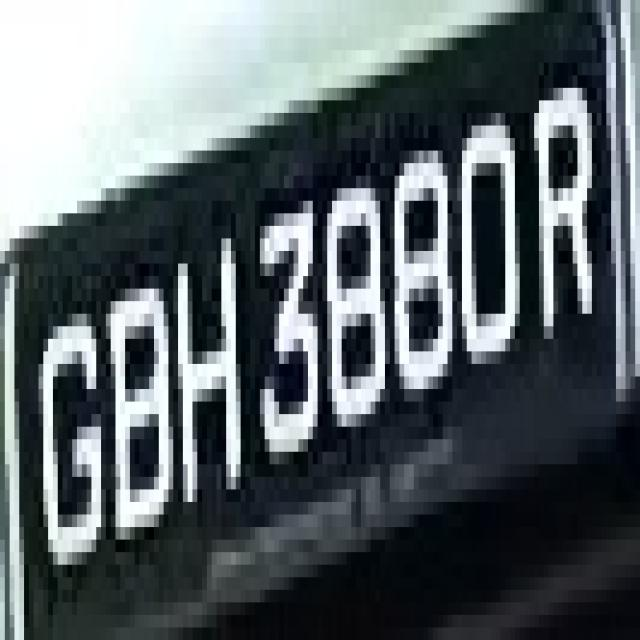0: (448, 101, 520, 414)
3: (240, 176, 318, 502)
8: (380, 100, 457, 427), (318, 138, 390, 427)
B: (106, 276, 183, 552)
G: (29, 276, 111, 590)
H: (164, 188, 245, 540)
R: (520, 75, 602, 364)
